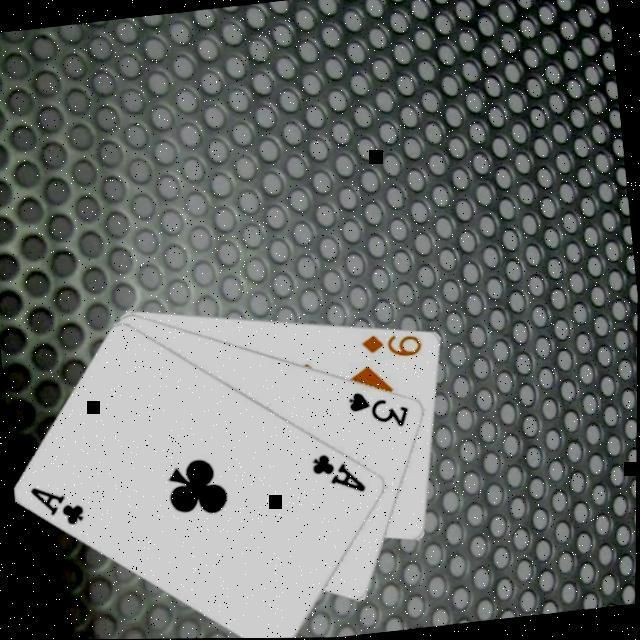3S: (346, 383, 414, 434)
9D: (358, 325, 427, 364)
AC: (309, 445, 371, 500), (28, 476, 90, 531)
